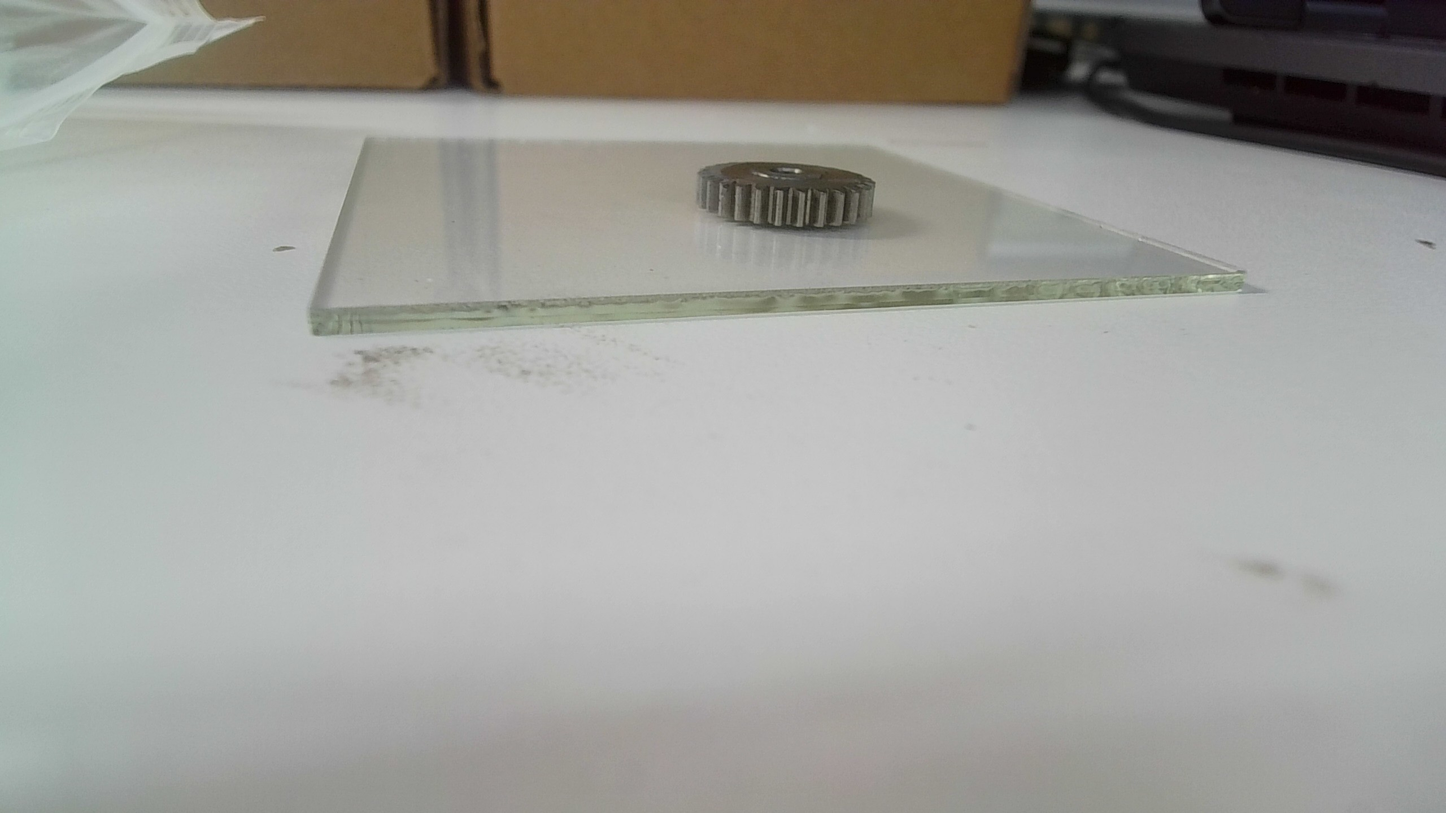gear: (690, 156, 878, 235)
